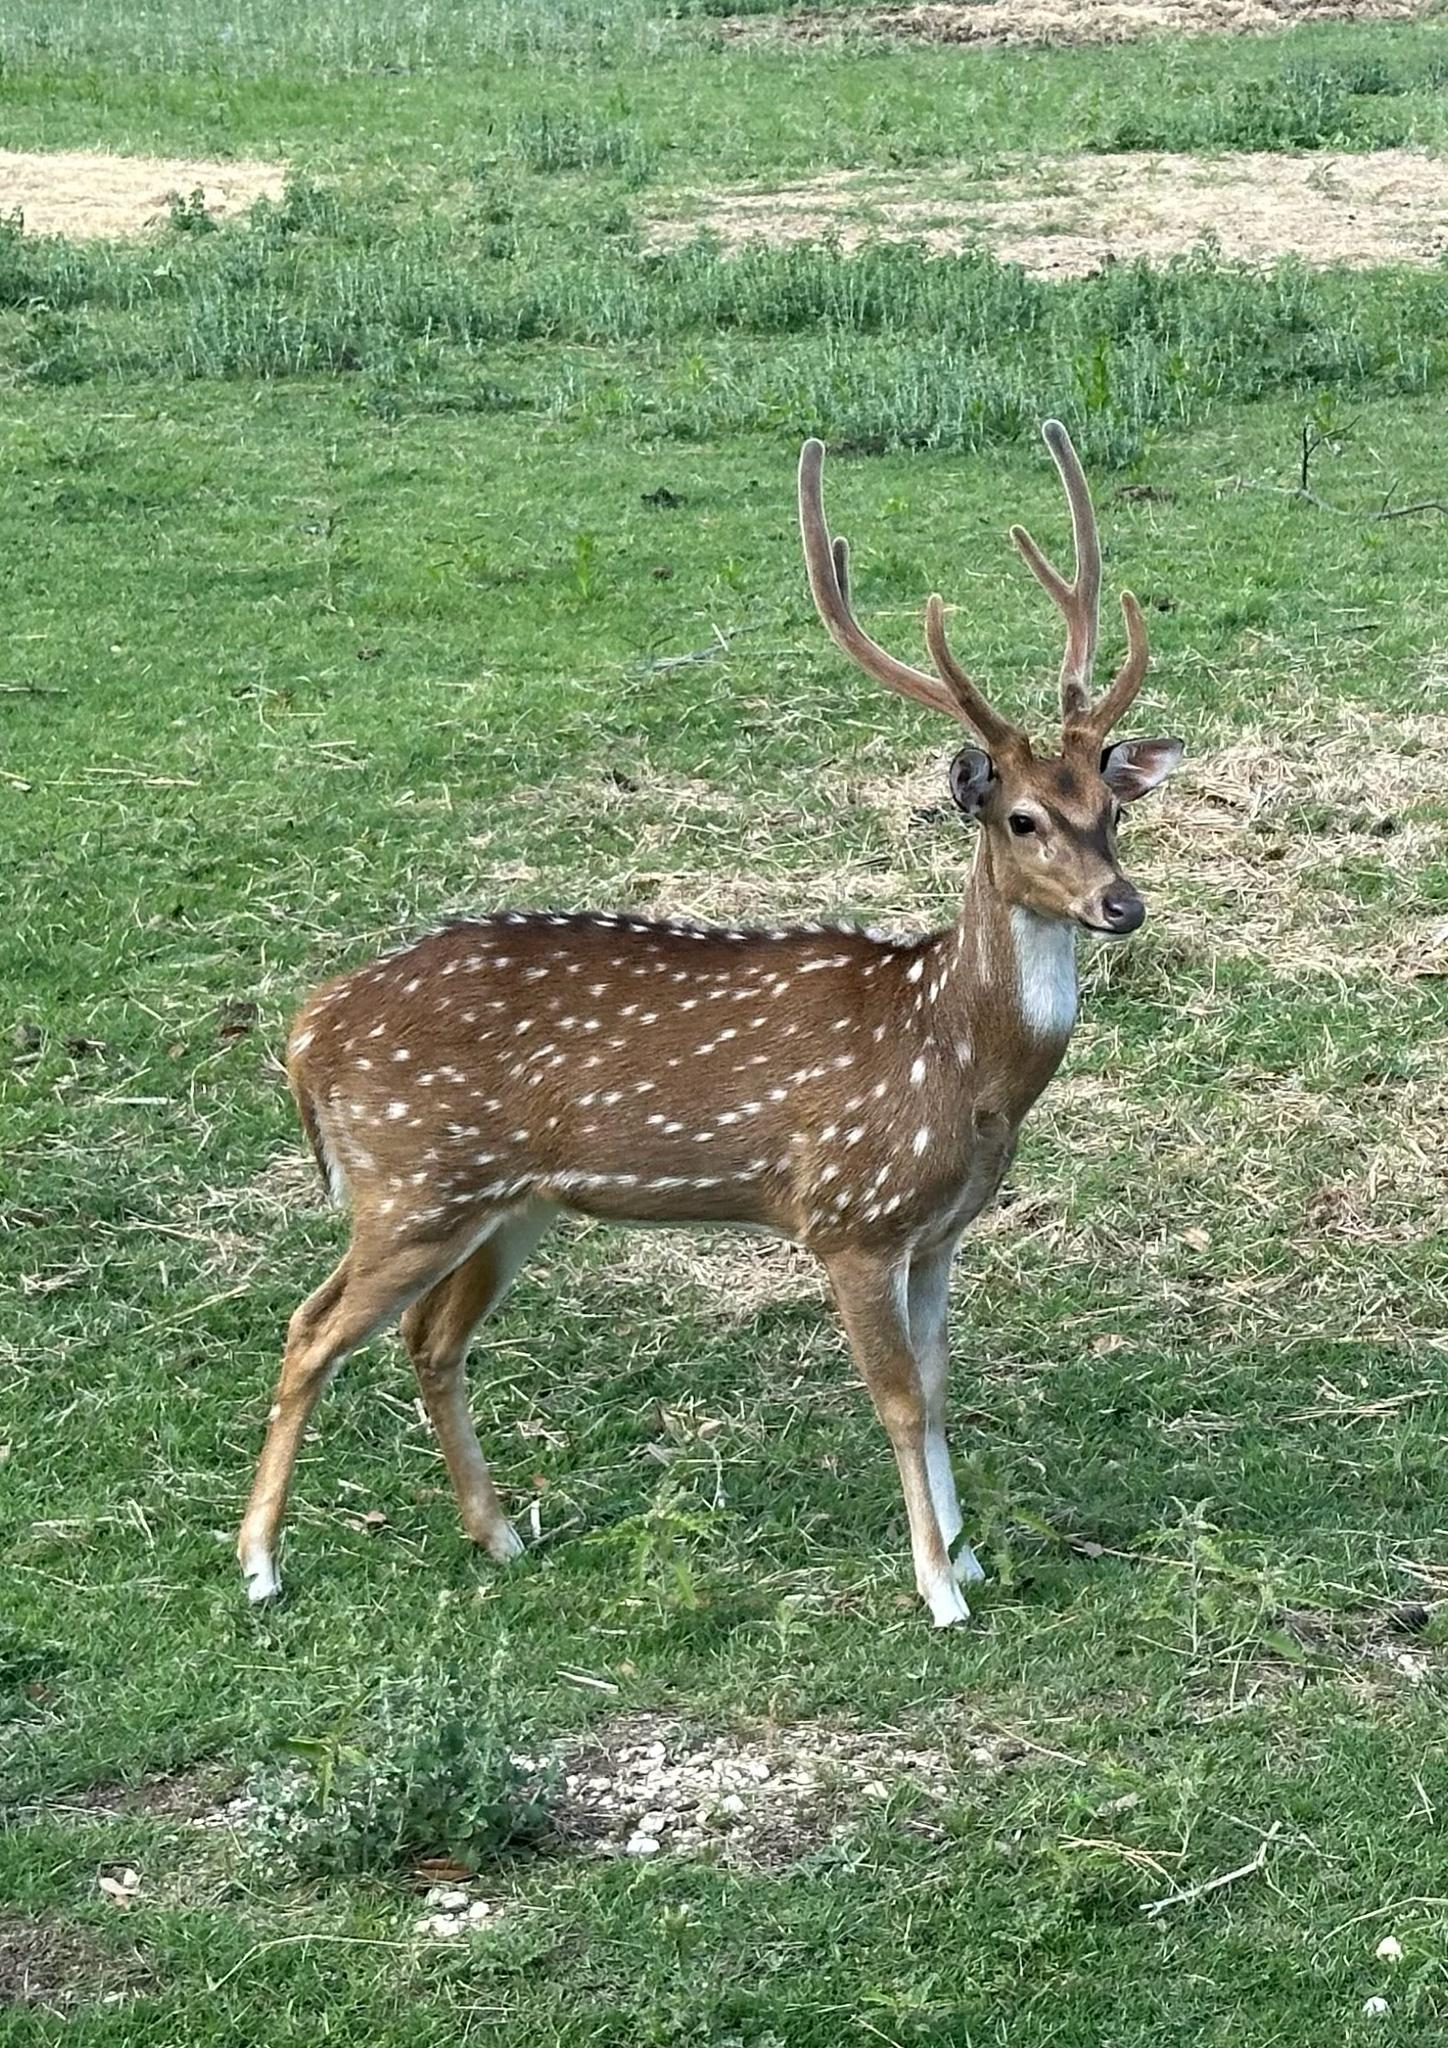Deer: (237, 422, 1182, 1626)
